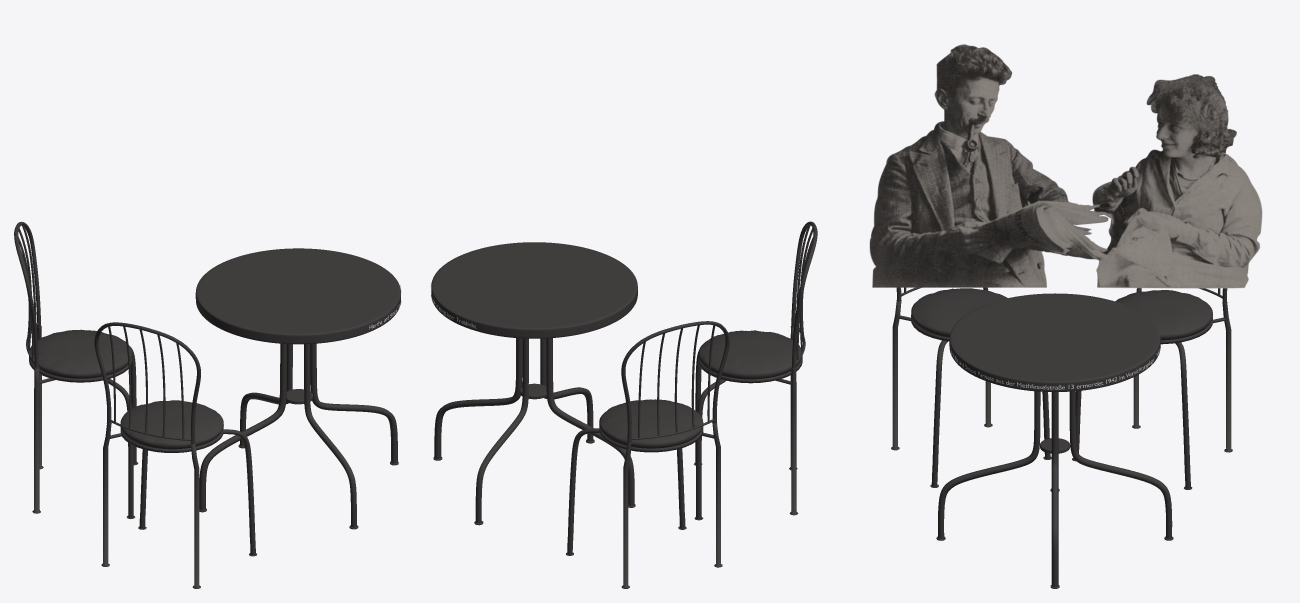
The model's file is parnass_2.glb.
3 views of the same model, side by side, from view 1: azimuth 30°, elevation 25°; view 2: azimuth 150°, elevation 25°; view 3: azimuth 270°, elevation 25° (orthographic). The views are drawn at different scales.
Parts seen in each view (by area): view 1: NurbsPath.007, NurbsPath.008, NurbsPath.001; view 2: NurbsPath.007, NurbsPath.001, NurbsPath.008; view 3: Parnass_Eltern_frei, NurbsPath.007, NurbsPath.001, NurbsPath.008.
Boxes of the visible parts, box(x1,y1,x2,y2) form: NurbsPath.007: box(195, 248, 400, 529); NurbsPath.008: box(94, 322, 256, 588); NurbsPath.001: box(14, 221, 138, 518); NurbsPath.007: box(431, 242, 637, 525); NurbsPath.001: box(566, 321, 729, 588); NurbsPath.008: box(694, 221, 817, 520); Parnass_Eltern_frei: box(869, 44, 1262, 288); NurbsPath.007: box(936, 293, 1173, 588); NurbsPath.001: box(1072, 288, 1232, 489); NurbsPath.008: box(891, 287, 1051, 487).
Size of the model in its own units: 1.34 by 1.64 by 1.47.
3 materials, 1 textured.
